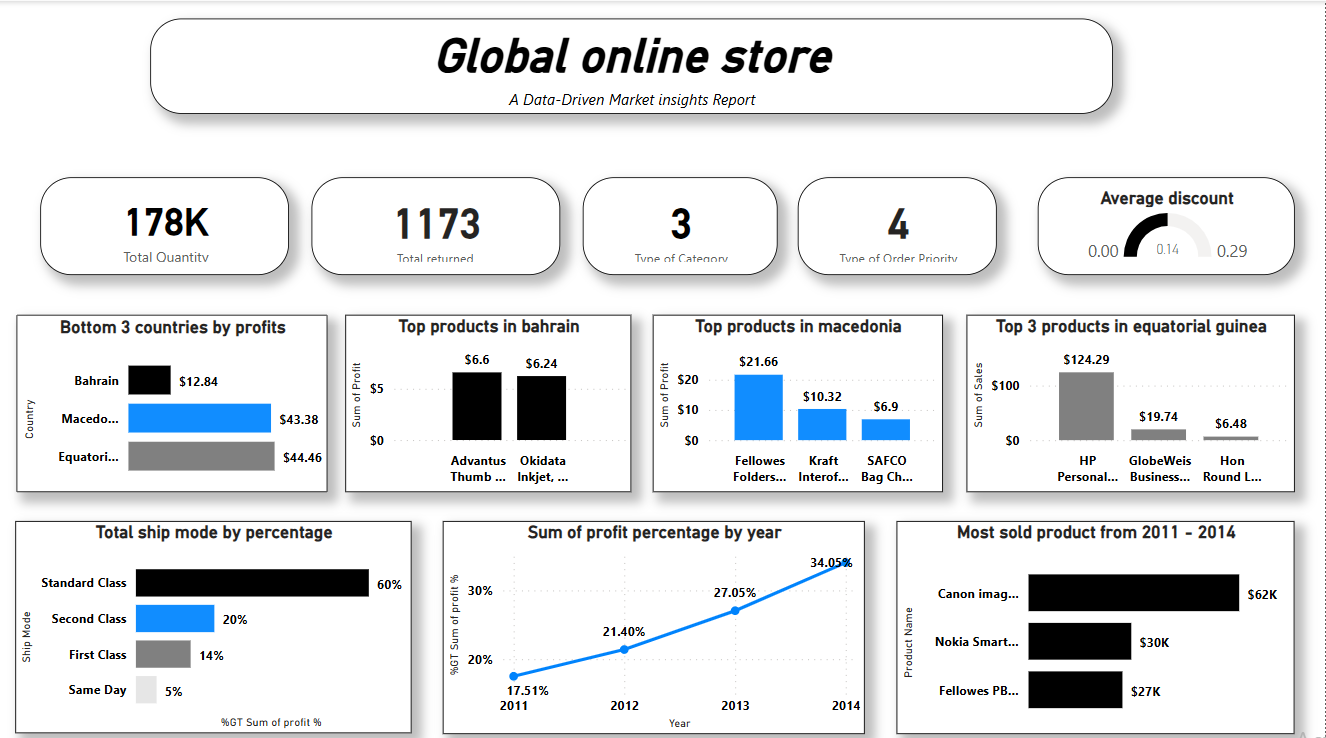

What the dashboard file says about the page in this screenshot:
{"tool":"powerbi","page":{"name":"Page 2","canvas":[1280,720],"ordinal":1},"visuals":[{"type":"textbox","title":"Global online store","box":[145.9,16.9,928.6,91.7],"z":0},{"type":"clusteredBarChart","title":"Bottom 3 countries by profits","fields":{"Category":["ORDER_TABLE.Country"],"Y":["Sum(ORDER_TABLE.Profit)"]},"box":[16.5,303,300.3,171.4],"z":1000},{"type":"gauge","title":"Average discount","fields":{"Y":["ORDER_TABLE.Avg D"]},"box":[1002.2,170,248.2,94.6],"z":2000},{"type":"card","fields":{"Values":["Sum(ORDER_TABLE.Quantity)"]},"box":[39.8,170,239.9,94.6],"z":3000},{"type":"card","fields":{"Values":["RETURN_TABLE.sum of returned"]},"box":[301.6,170,239.9,94.6],"z":4000},{"type":"card","fields":{"Values":["Count(ORDER_TABLE.Category)"]},"box":[563.5,170,187.8,94.6],"z":5000},{"type":"card","fields":{"Values":["Count(ORDER_TABLE.Order Priority)"]},"box":[770.5,170,191.9,94.6],"z":6000},{"type":"clusteredColumnChart","title":"Top products in bahrain","fields":{"Category":["ORDER_TABLE.Product Name"],"Y":["Sum(ORDER_TABLE.Profit)"]},"box":[334.1,302.7,276.2,171.3],"z":7000},{"type":"clusteredColumnChart","title":"Top products in macedonia","fields":{"Category":["ORDER_TABLE.Product Name"],"Y":["Sum(ORDER_TABLE.Profit)"]},"box":[630.7,303,279.7,171.4],"z":8000},{"type":"clusteredColumnChart","title":"Top 3 products in equatorial guinea","fields":{"Category":["ORDER_TABLE.Product Name"],"Y":["Sum(ORDER_TABLE.Sales)"]},"box":[933.7,303,316.7,171.4],"z":9000},{"type":"clusteredBarChart","title":"Total ship mode by percentage ","fields":{"Category":["ORDER_TABLE.Ship Mode"],"Y":["Sum(ORDER_TABLE.profit %)"]},"box":[15.7,501.7,382.3,205],"z":10000},{"type":"lineChart","title":"Sum of profit percentage by year","fields":{"Category":["ORDER_TABLE.Order Date.Variation.Date Hierarchy.Year","ORDER_TABLE.Order Date.Variation.Date Hierarchy.Month"],"Y":["Sum(ORDER_TABLE.profit %)"]},"box":[427.8,501.8,407.2,205.7],"z":11000},{"type":"clusteredBarChart","title":"Most sold product from 2011 - 2014","fields":{"Y":["Sum(ORDER_TABLE.Sales)"],"Category":["ORDER_TABLE.Product Name"]},"box":[866.5,501.8,383.9,205.7],"z":12000}]}

Visuals, with their boxes in screenshot pixels (x1, y1, x2, y2), scaled from the page's 1280x720 canvas onto the 1326x738 screenshot:
"Global online store" textbox: x1=151, y1=17, x2=1113, y2=111
"Bottom 3 countries by profits" clusteredBarChart: x1=17, y1=311, x2=328, y2=486
"Average discount" gauge: x1=1038, y1=174, x2=1295, y2=271
card - Sum(ORDER_TABLE.Quantity): x1=41, y1=174, x2=290, y2=271
card - RETURN_TABLE.sum of returned: x1=312, y1=174, x2=561, y2=271
card - Count(ORDER_TABLE.Category): x1=584, y1=174, x2=778, y2=271
card - Count(ORDER_TABLE.Order Priority): x1=798, y1=174, x2=997, y2=271
"Top products in bahrain" clusteredColumnChart: x1=346, y1=310, x2=632, y2=486
"Top products in macedonia" clusteredColumnChart: x1=653, y1=311, x2=943, y2=486
"Top 3 products in equatorial guinea" clusteredColumnChart: x1=967, y1=311, x2=1295, y2=486
"Total ship mode by percentage " clusteredBarChart: x1=16, y1=514, x2=412, y2=724
"Sum of profit percentage by year" lineChart: x1=443, y1=514, x2=865, y2=725
"Most sold product from 2011 - 2014" clusteredBarChart: x1=898, y1=514, x2=1295, y2=725
